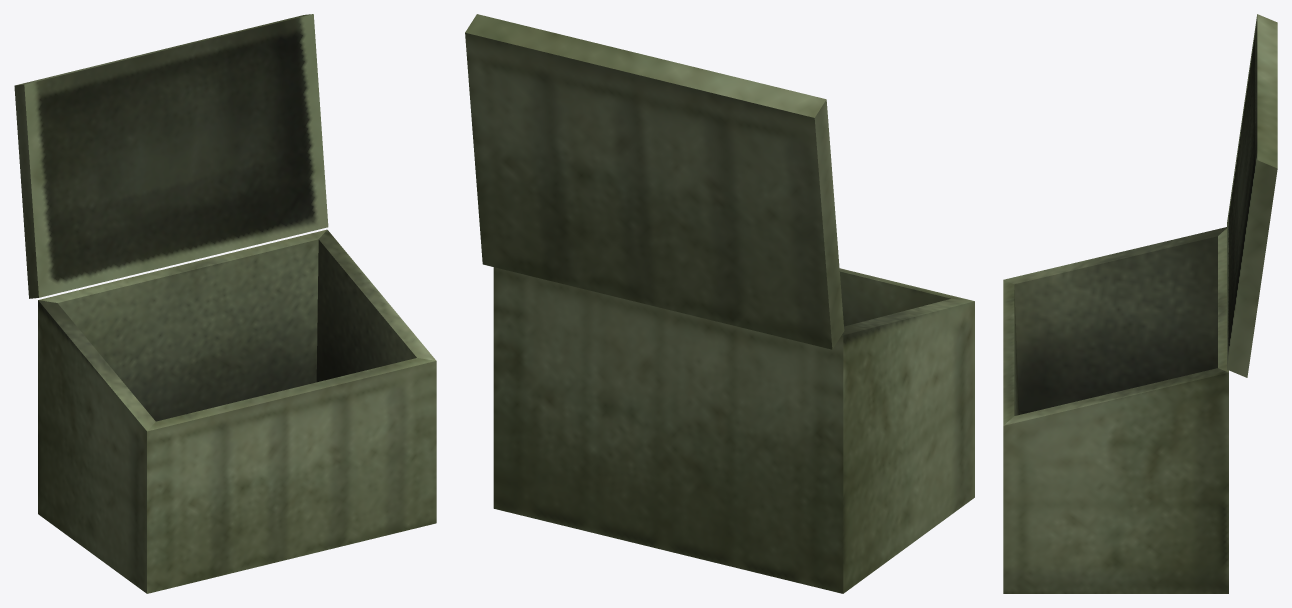
Rendered from lixeira.glb.
The picture shows the model from 3 angles, left to right: view 1: azimuth 30°, elevation 25°; view 2: azimuth 150°, elevation 25°; view 3: azimuth 270°, elevation 25°; orthographic projection. The views are drawn at different scales.
Parts seen in each view (by area): view 1: Cube; view 2: Cube; view 3: Cube.
Part boxes in pixels (x1=…): Cube: x1=14, y1=14, x2=436, y2=593; Cube: x1=465, y1=14, x2=974, y2=593; Cube: x1=1003, y1=14, x2=1277, y2=593.
Size of the model in its own units: 1.53 by 2.12 by 1.21.
Materials: 1 (1 with a texture image).
